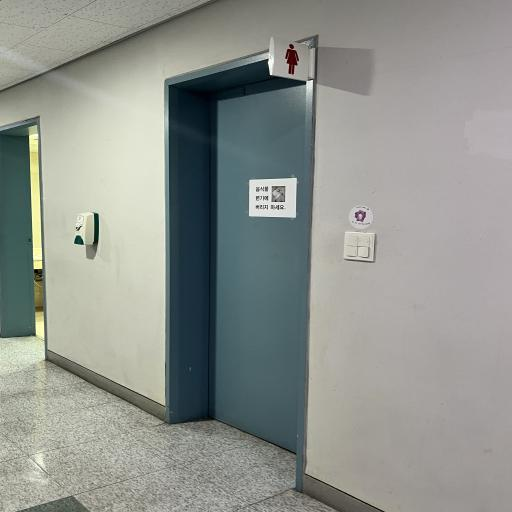door: (164, 36, 315, 493)
